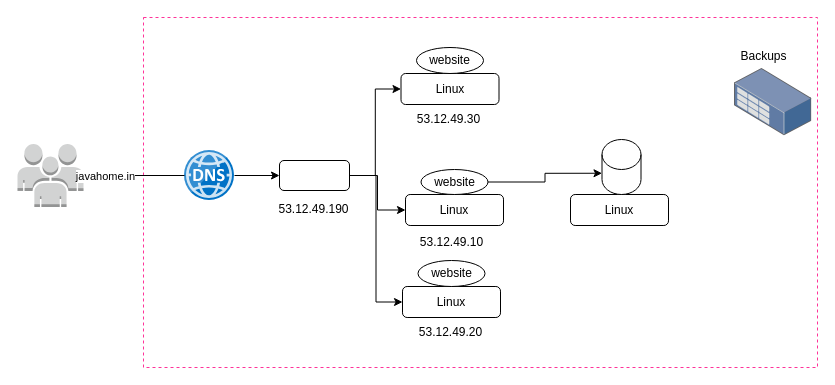
This 835x385 diagram has some shape labels left out. Each missing label, with the centre of its shape:
"DB" goes at point (621, 166).
"load balancer" goes at point (314, 175).
"Storage" goes at point (772, 101).
"Users" goes at point (50, 175).
